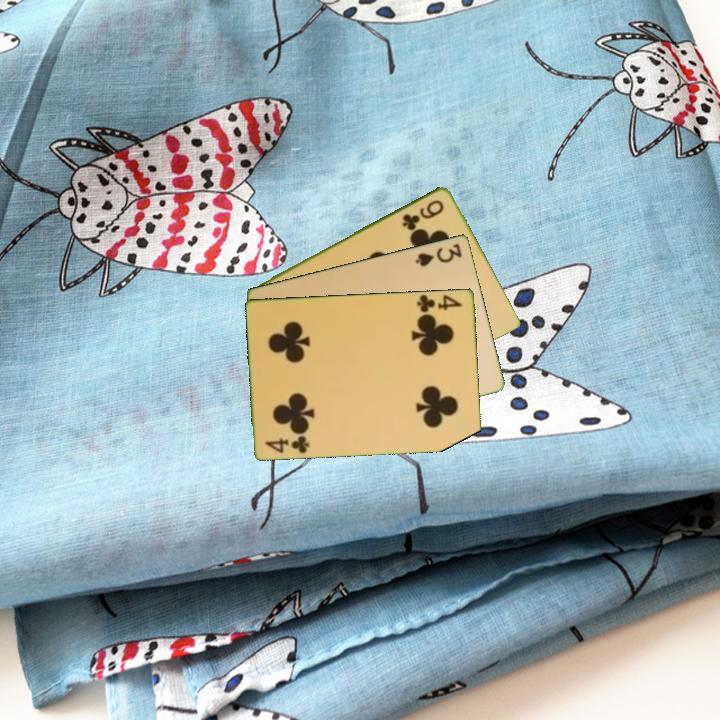3s: (412, 240, 465, 269)
4c: (414, 291, 465, 317), (262, 432, 312, 456)
9c: (398, 195, 447, 232)
